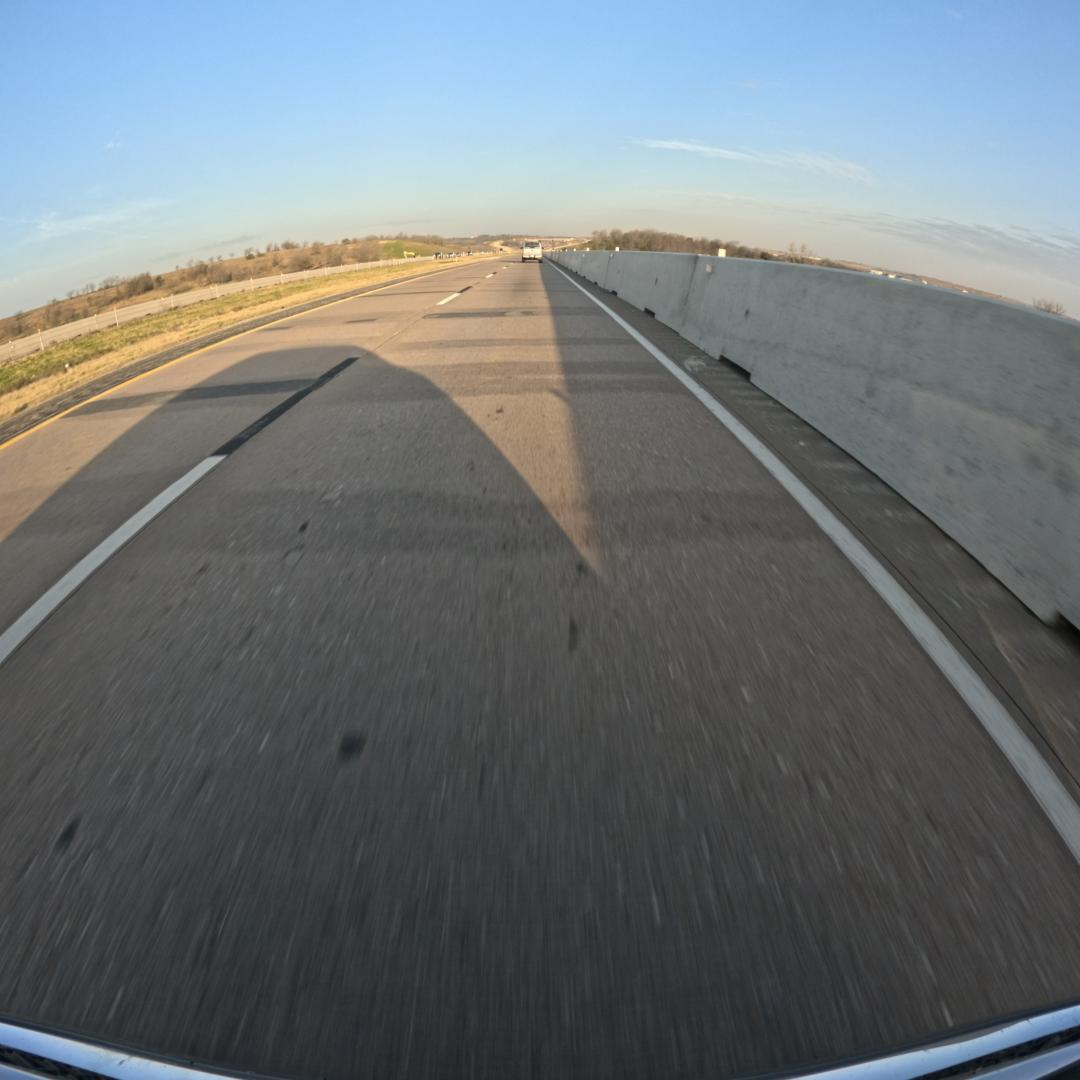lane0: (0, 265, 1080, 1077)
lane1: (0, 259, 504, 664)
